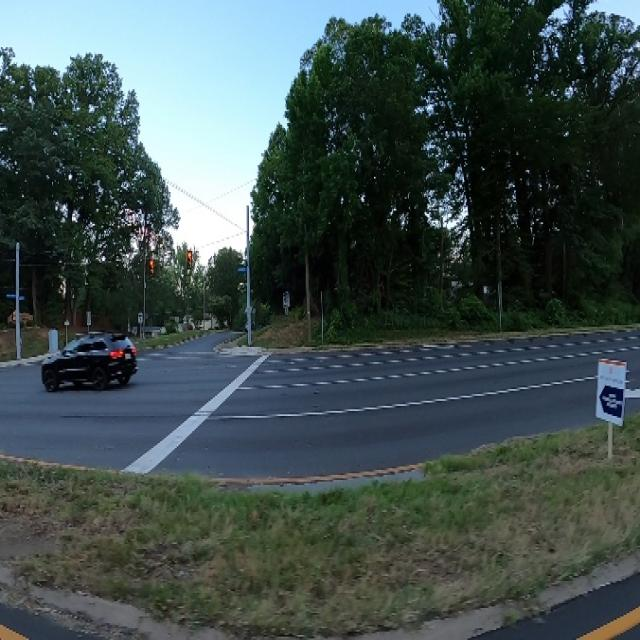car: (38, 322, 139, 398)
